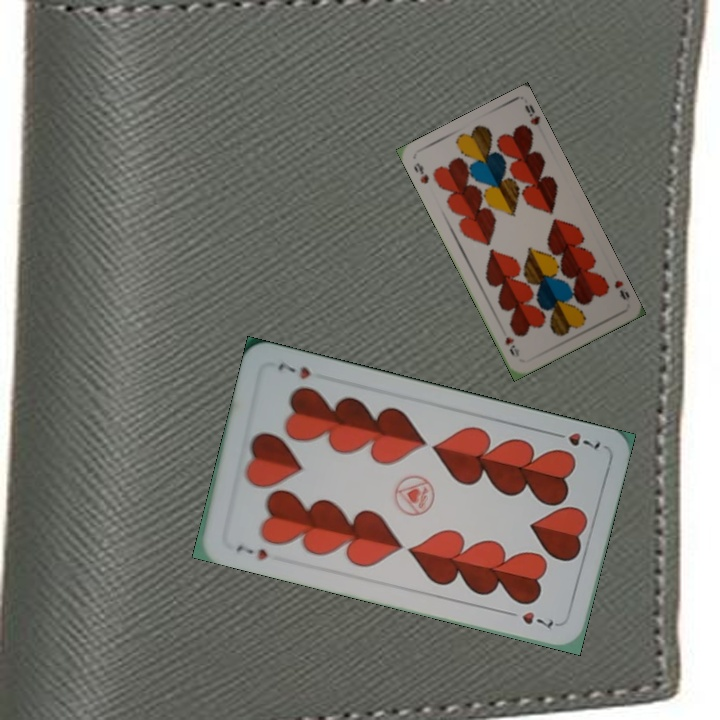H7: (547, 427, 604, 453), (231, 540, 271, 563)
H9: (410, 158, 432, 187), (610, 276, 632, 303)
